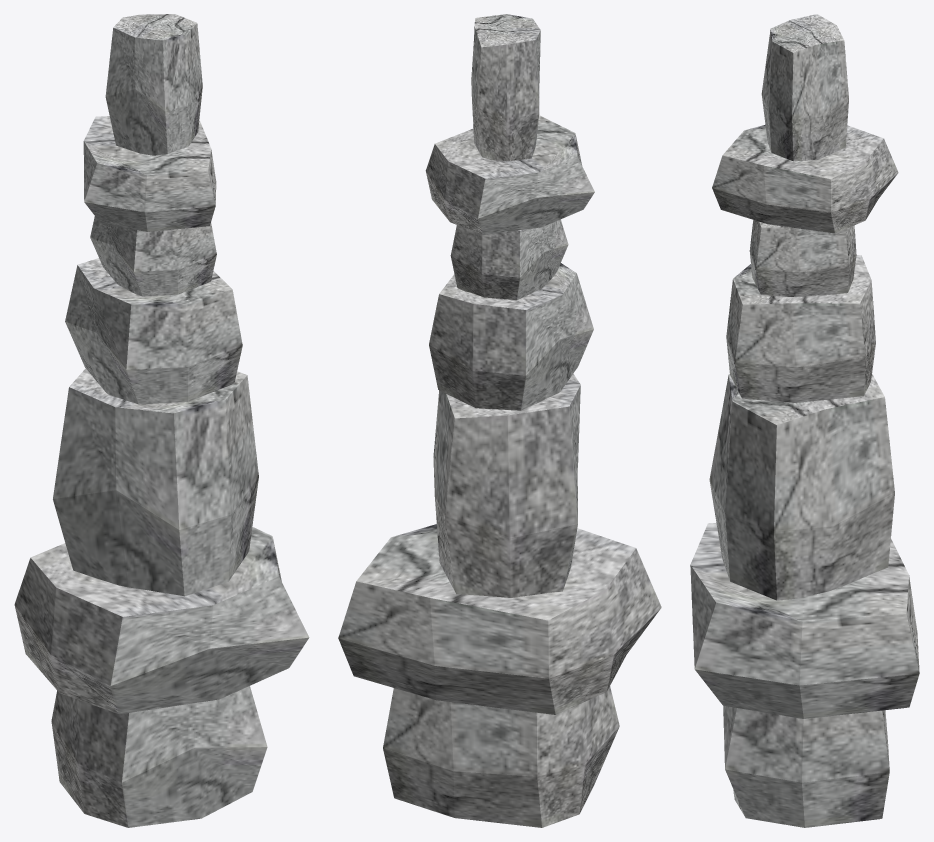
Rendered from rock.glb.
The picture shows the model from 3 angles, left to right: view 1: azimuth 30°, elevation 25°; view 2: azimuth 150°, elevation 25°; view 3: azimuth 270°, elevation 25°; orthographic projection.
Parts seen in each view (by area): view 1: Cube.002, Cube.001, Cube, Cube.003, Cube.006, Cube.005, Cube.004; view 2: Cube.001, Cube.002, Cube, Cube.003, Cube.005, Cube.006, Cube.004; view 3: Cube.002, Cube.001, Cube, Cube.003, Cube.005, Cube.006, Cube.004.
Part boxes in pixels (x1,y1,x2,y2): Cube.002: (53, 368, 258, 596); Cube.001: (14, 527, 309, 714); Cube: (51, 686, 267, 827); Cube.003: (65, 258, 242, 404); Cube.006: (105, 14, 202, 155); Cube.005: (83, 116, 216, 231); Cube.004: (90, 216, 216, 296); Cube.001: (338, 524, 661, 714); Cube.002: (433, 374, 580, 597); Cube: (383, 686, 619, 827); Cube.003: (429, 263, 593, 410); Cube.005: (425, 115, 594, 234); Cube.006: (471, 14, 540, 161); Cube.004: (450, 219, 568, 300); Cube.002: (709, 374, 894, 600); Cube.001: (690, 523, 919, 718); Cube: (723, 705, 889, 827); Cube.003: (726, 255, 875, 402); Cube.005: (712, 125, 898, 233); Cube.006: (761, 14, 848, 161); Cube.004: (749, 220, 856, 296).
Size of the model in its own units: 3.2 by 10.15 by 2.76.
7 materials, 7 textured.
